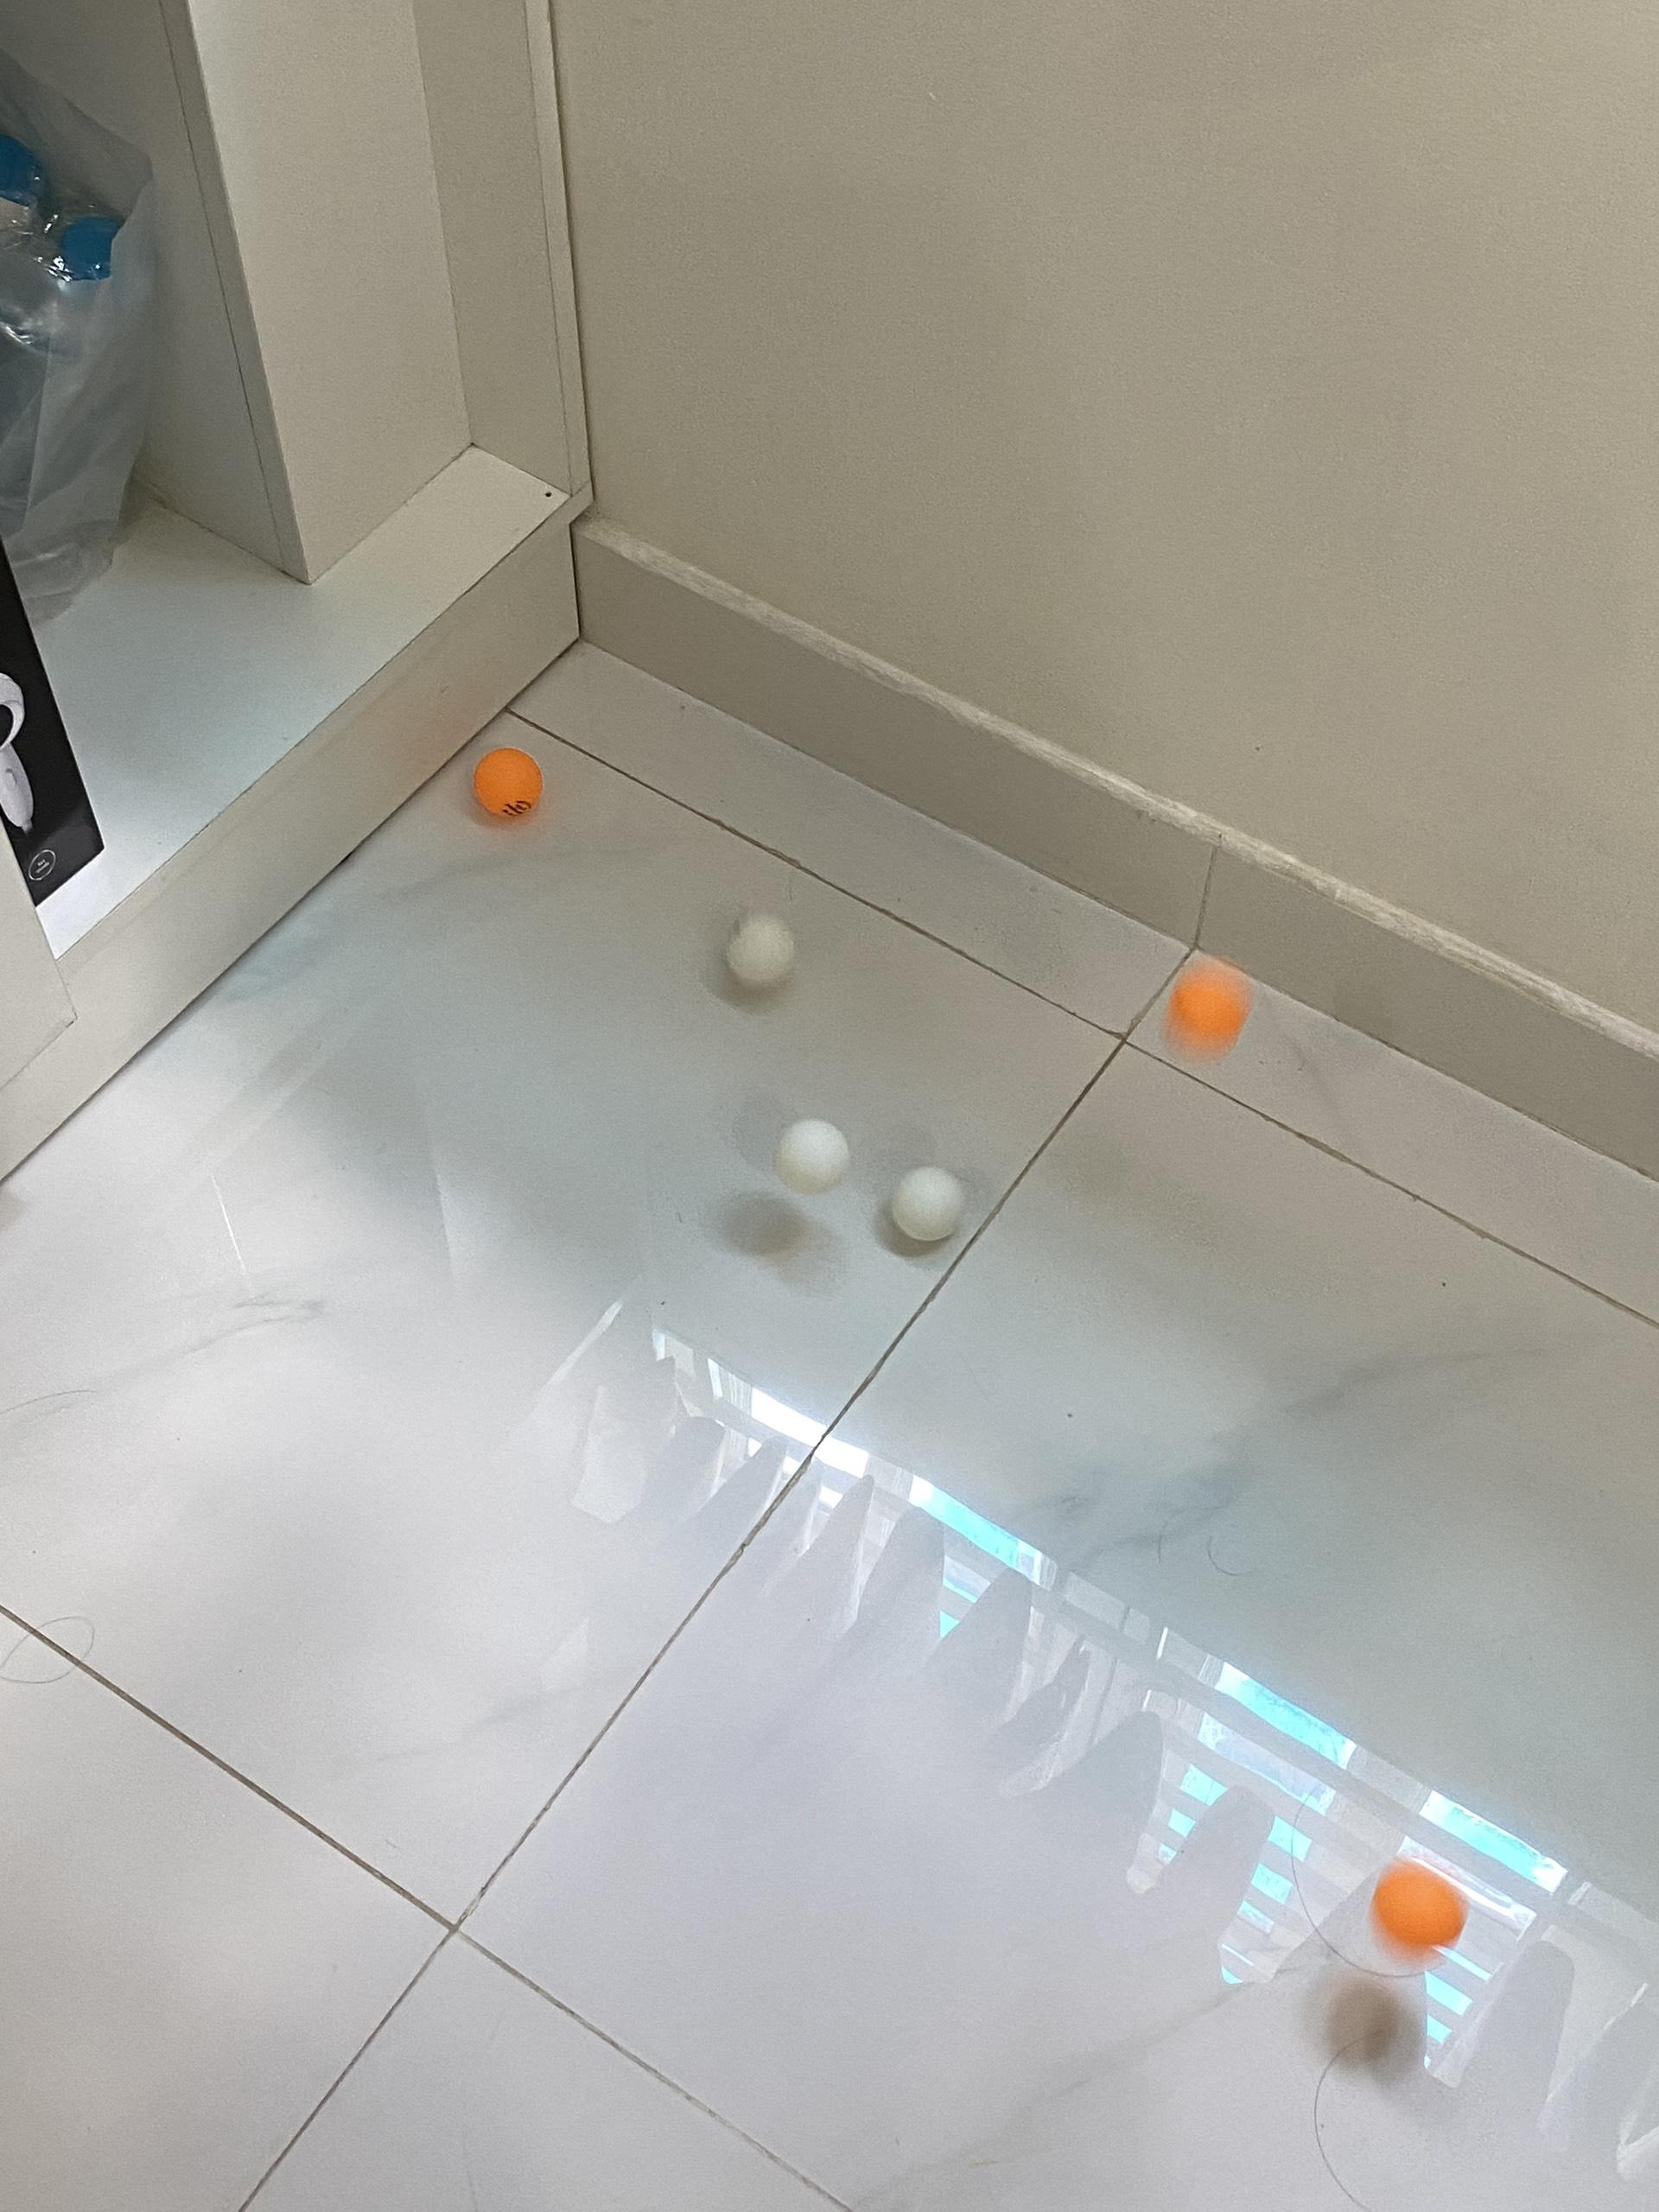oball: (1373, 1860, 1466, 1952), (1169, 965, 1248, 1054), (472, 745, 547, 815)
